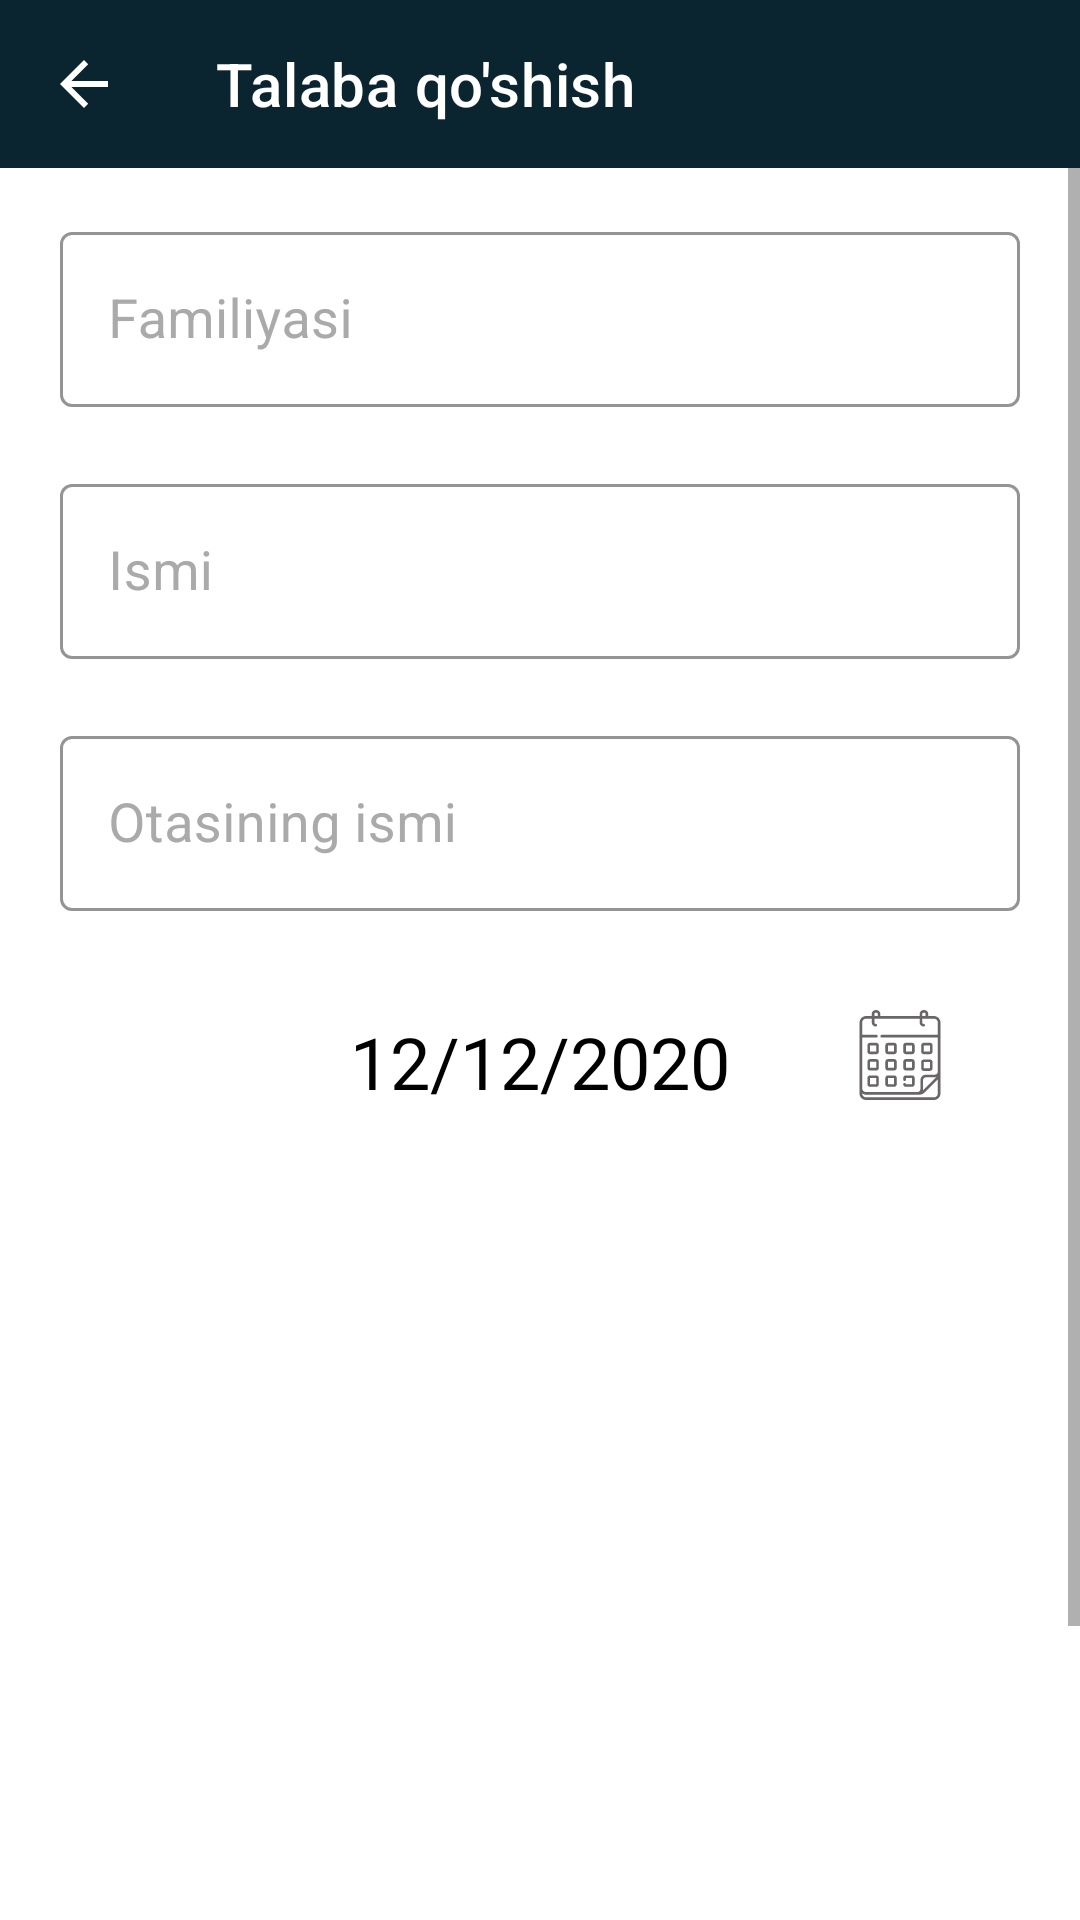

Where icons sit on this 1080 x 1920 app screen, as [left=x1, top=y1, right=x2, bottom=y2]:
calendar: [left=859, top=1010, right=941, bottom=1100]
